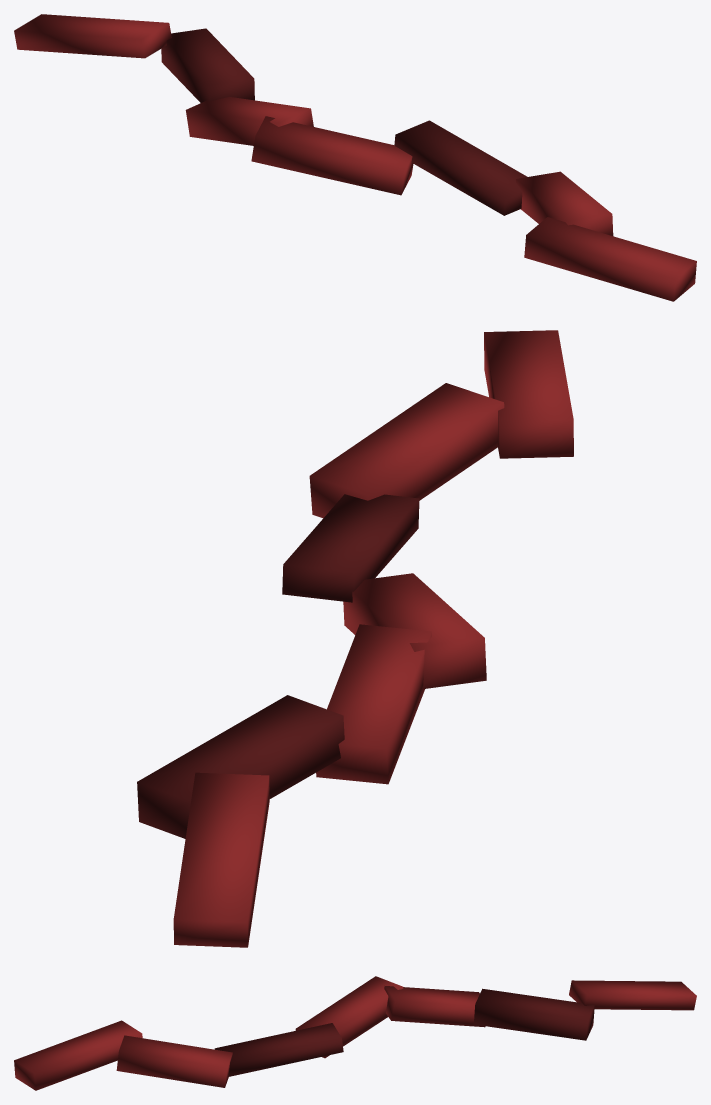
File: daenggi-ribbon.glb
3 views of the same model, one above another, from view 1: azimuth 30°, elevation 25°; view 2: azimuth 150°, elevation 25°; view 3: azimuth 270°, elevation 25° (orthographic). The views are drawn at different scales.
Parts seen in each view (by area): view 1: 씬3.댕기; view 2: 씬3.댕기; view 3: 씬3.댕기.
Part boxes in pixels (left/top/right/bottom): 씬3.댕기: left=14, top=14, right=696, bottom=301; 씬3.댕기: left=137, top=330, right=573, bottom=947; 씬3.댕기: left=14, top=976, right=696, bottom=1090.
Size of the model in its own units: 0.2838 by 0.05 by 0.8181.
